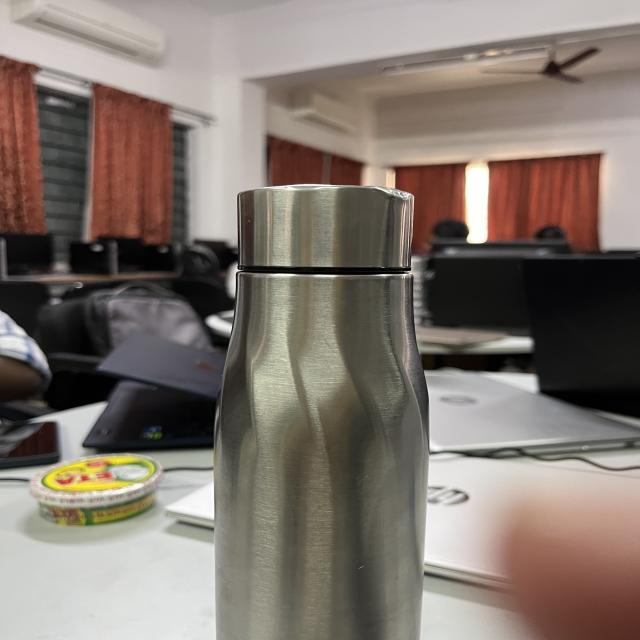L3: (218, 173, 422, 640)
